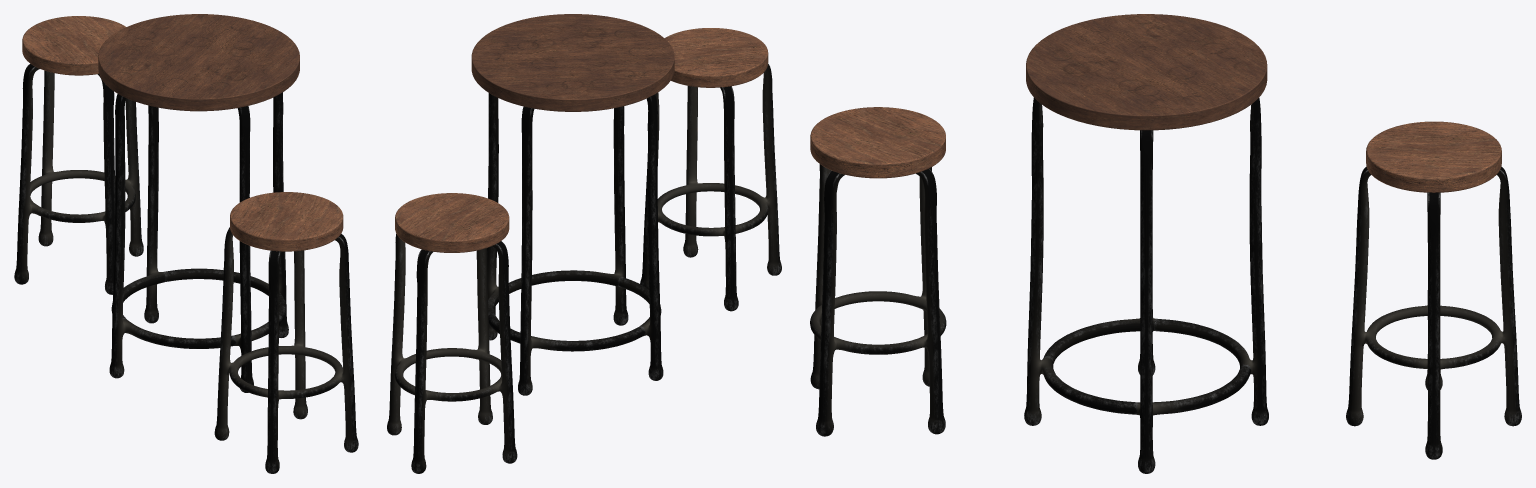
The model's file is cafe_table_and_stools_(FBX).fbx.
The picture shows the model from 3 angles, left to right: view 1: azimuth 30°, elevation 25°; view 2: azimuth 150°, elevation 25°; view 3: azimuth 270°, elevation 25°; orthographic projection. The views are drawn at different scales.
Parts seen in each view (by area): view 1: cafe_table, cafe_stool_2, cafe_stool_1; view 2: cafe_table, cafe_stool_1, cafe_stool_2; view 3: cafe_table, cafe_stool_1, cafe_stool_2.
Boxes of the visible parts, x1,y1,x2,y2 form: cafe_table: [98, 14, 299, 392]; cafe_stool_2: [214, 192, 358, 473]; cafe_stool_1: [14, 16, 143, 294]; cafe_table: [471, 14, 674, 395]; cafe_stool_1: [387, 193, 517, 473]; cafe_stool_2: [640, 28, 781, 311]; cafe_table: [1024, 14, 1268, 473]; cafe_stool_1: [1346, 121, 1521, 459]; cafe_stool_2: [810, 107, 946, 436].
Size of the model in its own units: 70.05 by 114 by 204.
